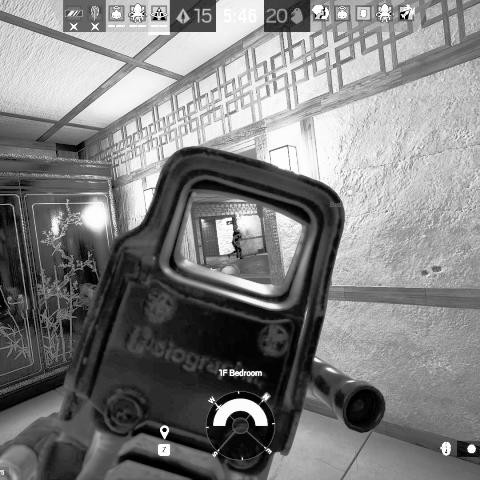Character: (227, 227, 245, 261)
Friend_label: (330, 185, 366, 208)
Head: (236, 227, 241, 232)
